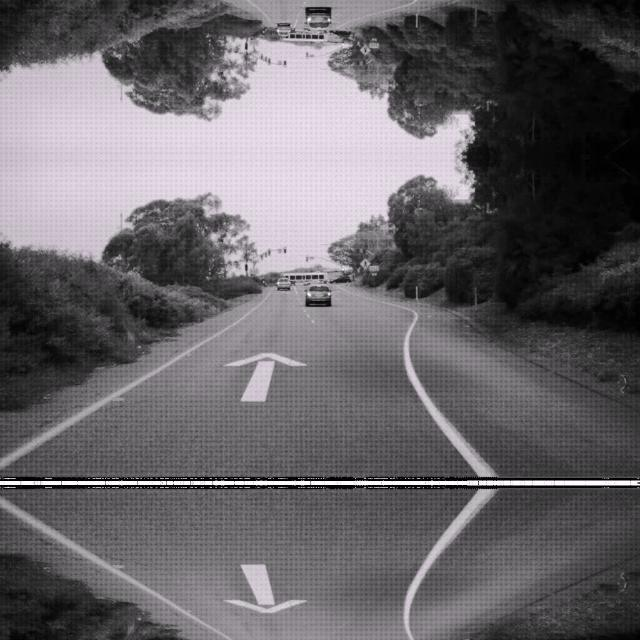pedestrianCrossing: (359, 256, 371, 268), (359, 44, 371, 56)
